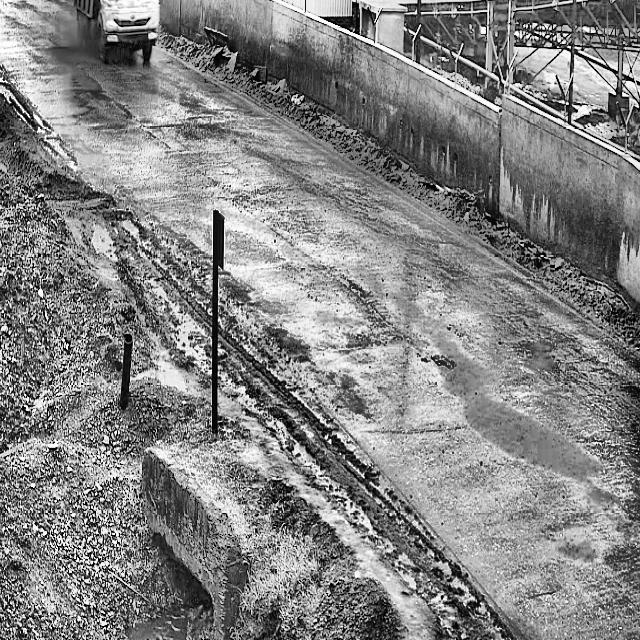dump_truck: (65, 0, 161, 71)
